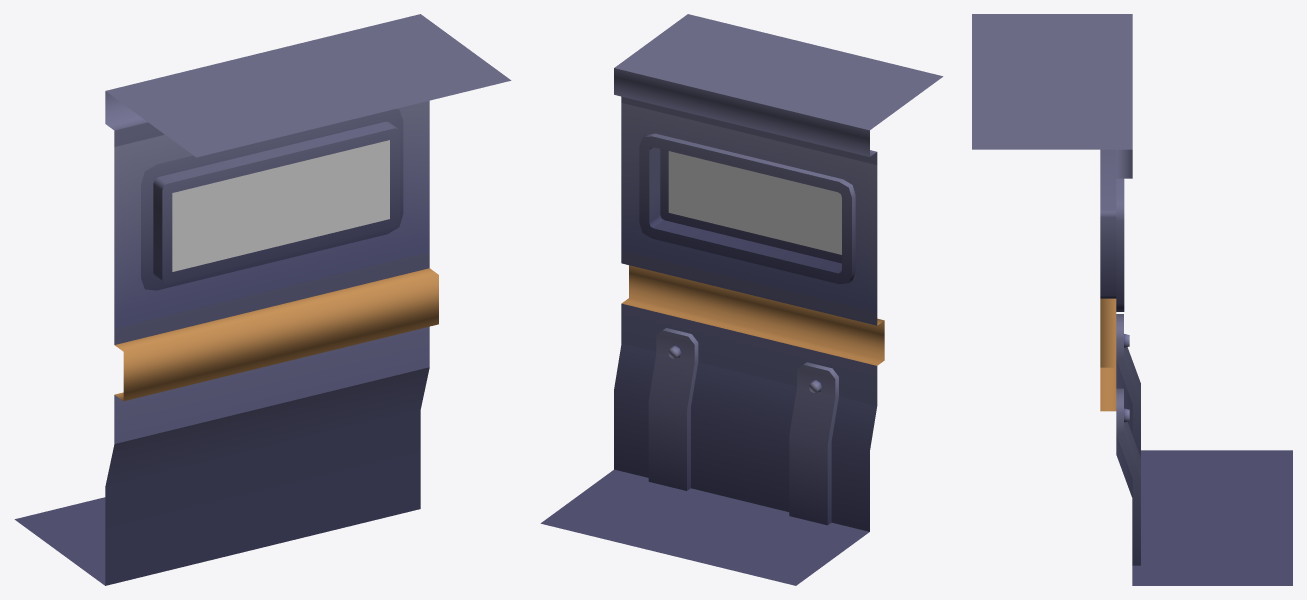
Rendered from structure-window-wide.glb.
3 renders of one model, left to right at view 1: azimuth 30°, elevation 25°; view 2: azimuth 150°, elevation 25°; view 3: azimuth 270°, elevation 25°, orthographic. The views are drawn at different scales.
Parts seen in each view (by area): view 1: structure-window-wide; view 2: structure-window-wide; view 3: structure-window-wide.
Boxes of the visible parts, left/top/right/bottom form: structure-window-wide: left=14, top=14, right=511, bottom=585; structure-window-wide: left=540, top=14, right=943, bottom=585; structure-window-wide: left=972, top=14, right=1292, bottom=585.
Size of the model in its own units: 2 by 3 by 2.
